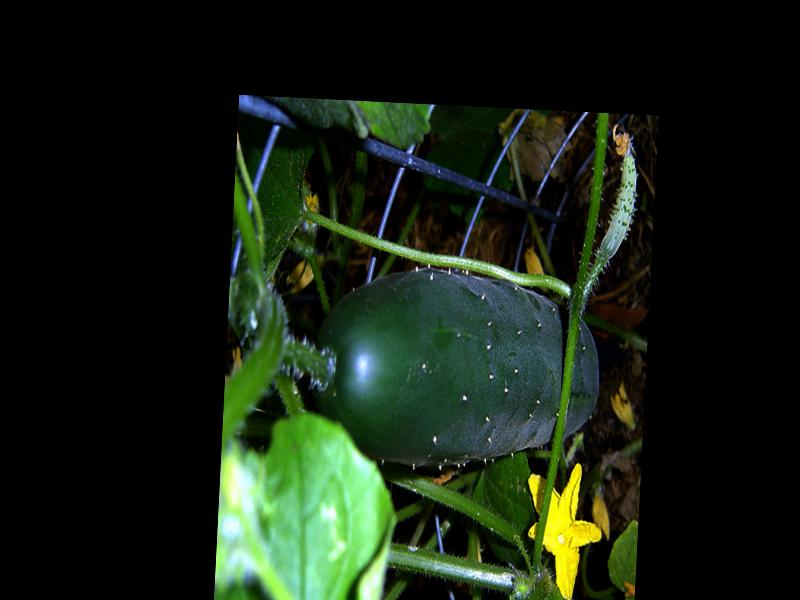Cucumber: (308, 259, 603, 473)
